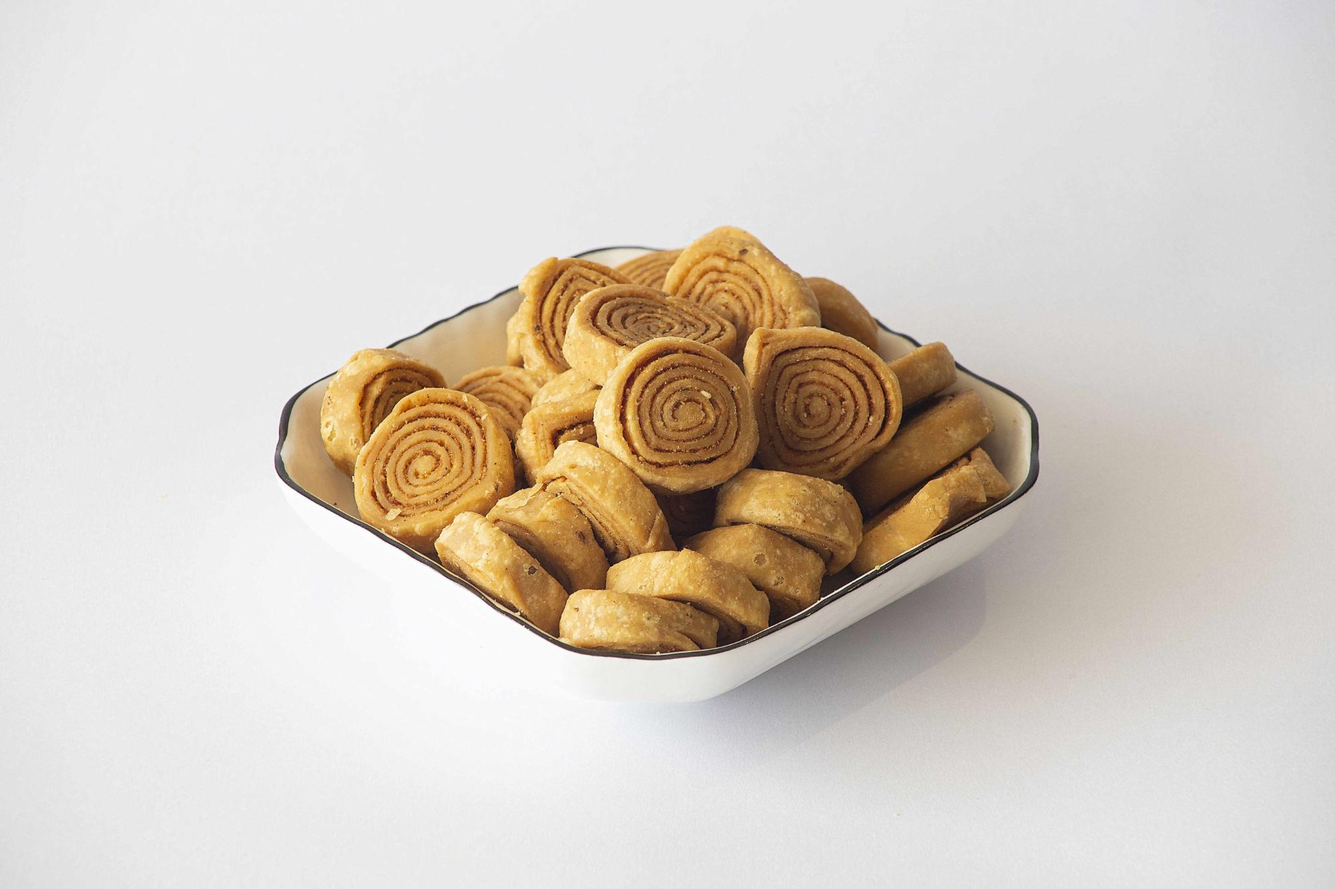bhakarwadi: (312, 229, 1029, 669)
